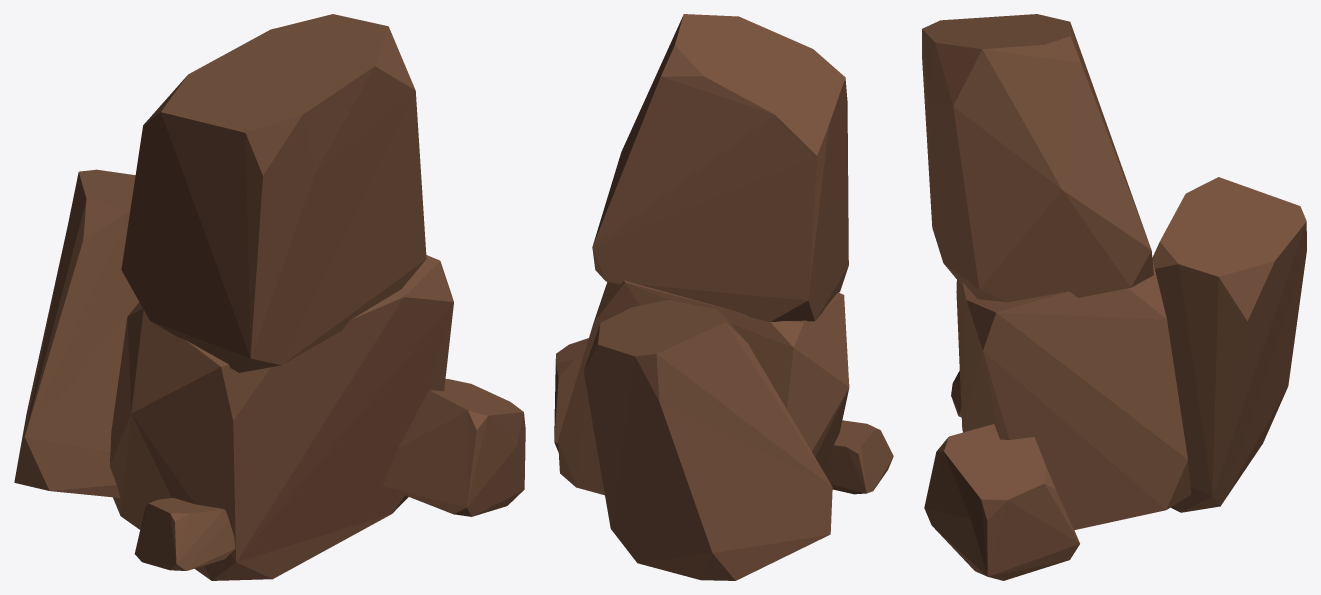
The model's file is env_rock_b.fbx.
3 renders of one model, left to right at view 1: azimuth 30°, elevation 25°; view 2: azimuth 150°, elevation 25°; view 3: azimuth 270°, elevation 25°, orthographic. The views are drawn at different scales.
Visible parts, largest first — view 1: Rock; view 2: Rock; view 3: Rock.
Part boxes in pixels (left/top/right/bottom): Rock: left=14, top=14, right=525, bottom=580; Rock: left=554, top=14, right=893, bottom=580; Rock: left=922, top=14, right=1306, bottom=580.
Size of the model in its own units: 12.95 by 15.83 by 11.25.
